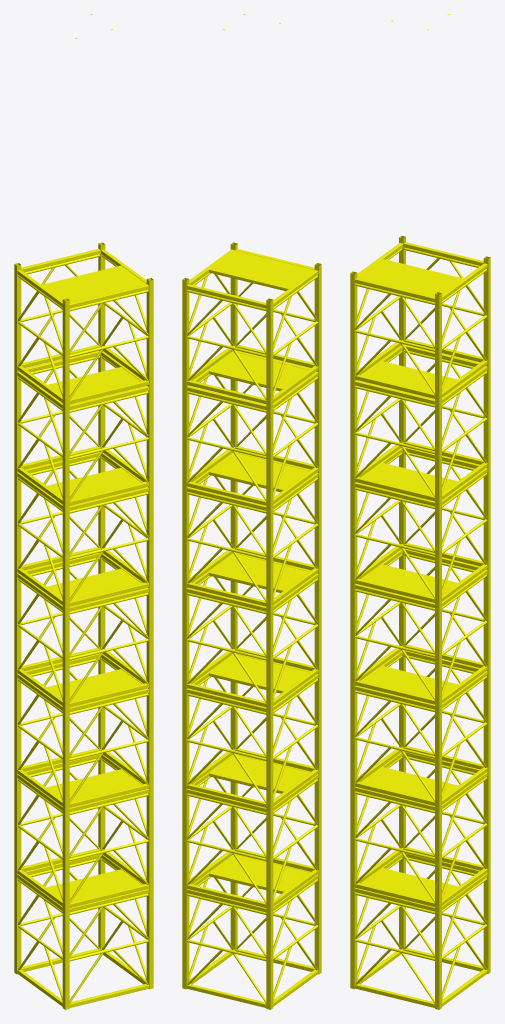
The model's file is Crane_body.fbx.
3 views of the same model, side by side, from view 1: azimuth 30°, elevation 25°; view 2: azimuth 150°, elevation 25°; view 3: azimuth 330°, elevation 25° (orthographic).
Visible parts, largest first — view 1: polySurface431; view 2: polySurface431; view 3: polySurface431.
Boxes of the visible parts, x1,y1,x2,y2 form: polySurface431: [14, 14, 153, 1009]; polySurface431: [182, 14, 321, 1009]; polySurface431: [350, 14, 490, 1009].
Size of the model in its own units: 126 by 1303 by 126.
